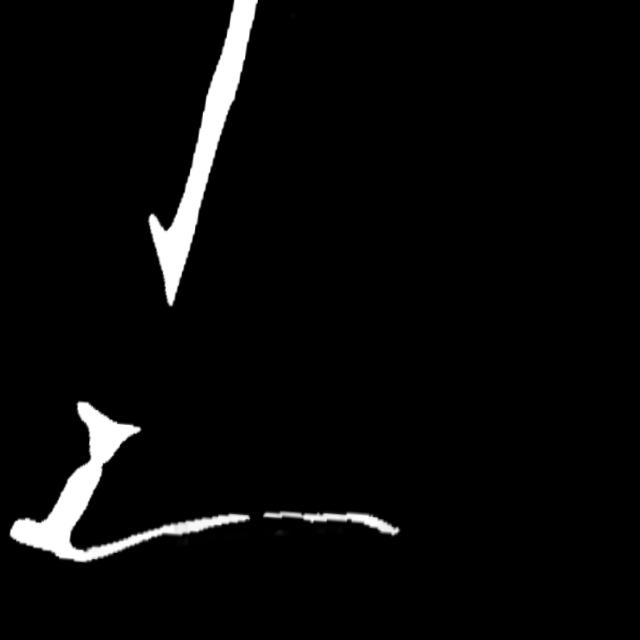sup: (243, 500, 282, 533)
